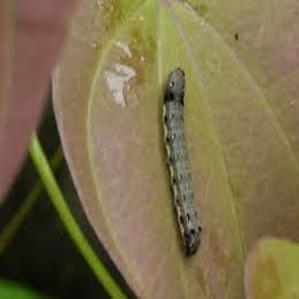Tobacco cutworm: (129, 56, 234, 261)
